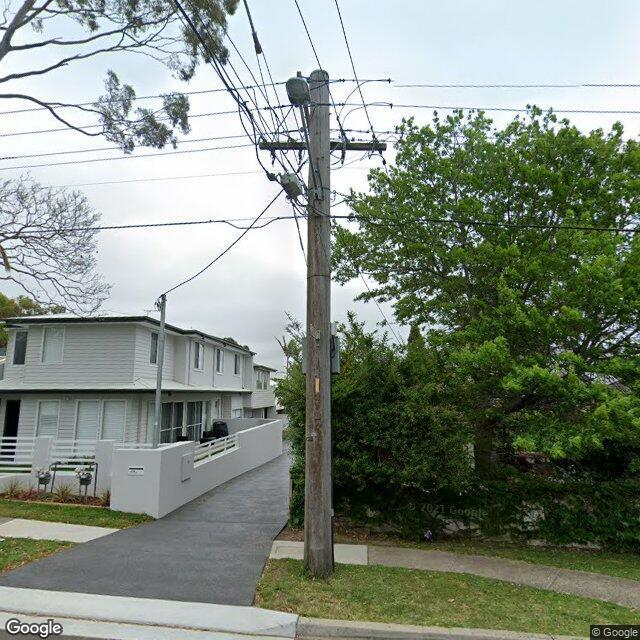crossarm: (259, 142, 388, 152)
steel-pole: (154, 293, 167, 448)
streetlight: (288, 76, 326, 207)
timber-pole: (304, 68, 334, 583)
